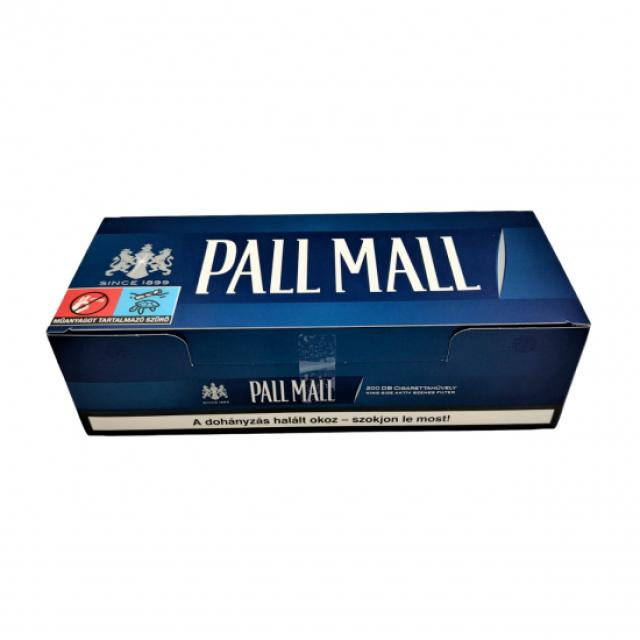pallmall: (50, 208, 582, 458)
